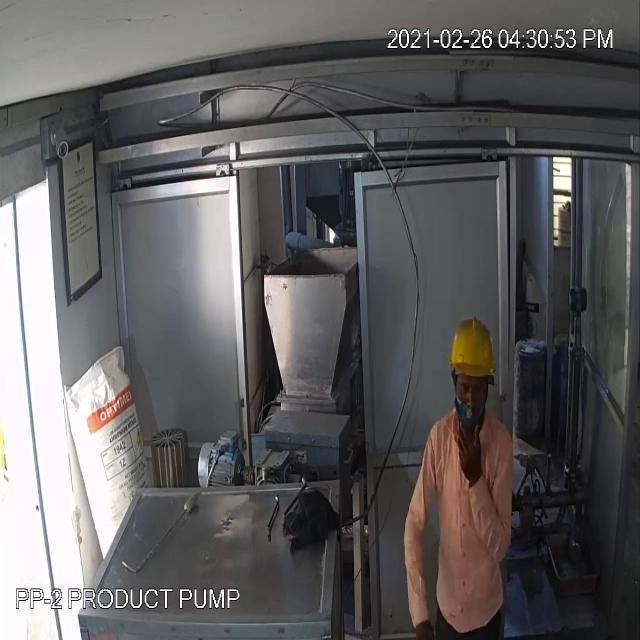helmet: (444, 312, 498, 411)
